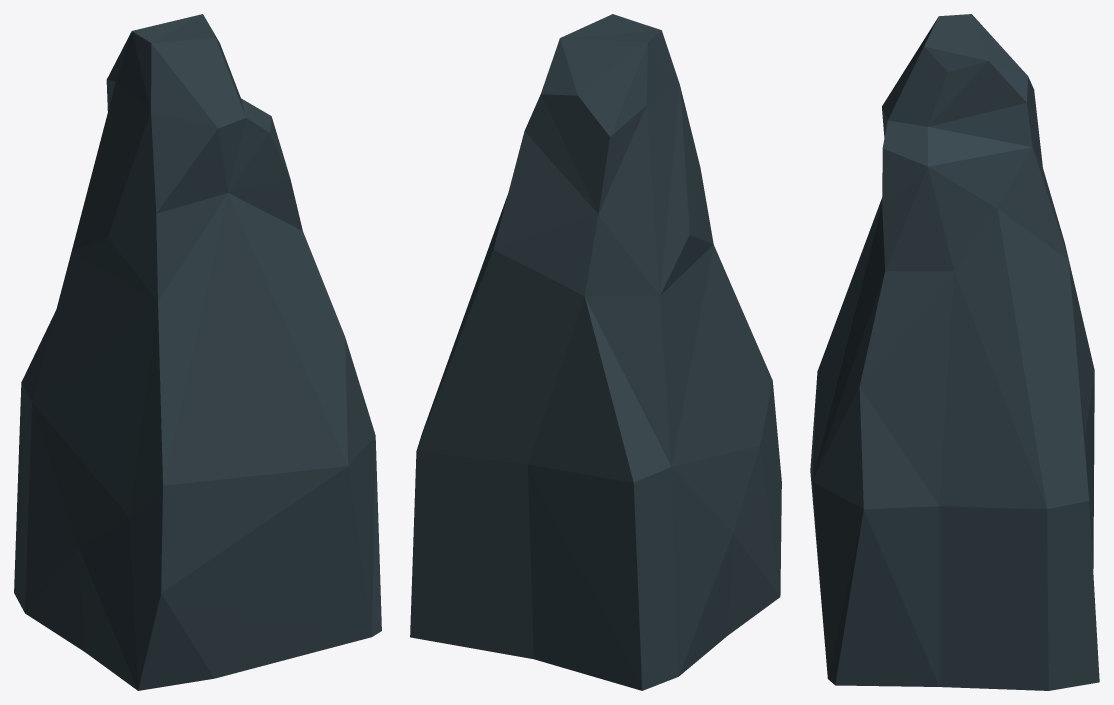
The model's file is RH_Rock03.fbx.
3 views of the same model, side by side, from view 1: azimuth 30°, elevation 25°; view 2: azimuth 150°, elevation 25°; view 3: azimuth 270°, elevation 25° (orthographic).
Parts seen in each view (by area): view 1: RH_Rock03; view 2: RH_Rock03; view 3: RH_Rock03.
Boxes of the visible parts, box(x1,y1,x2,y2) form: RH_Rock03: box(14, 14, 381, 690); RH_Rock03: box(410, 14, 781, 690); RH_Rock03: box(810, 14, 1099, 690).
Bounding box in the file's own units: 27.01 × 58.55 × 26.27.
1 material, 1 textured.
